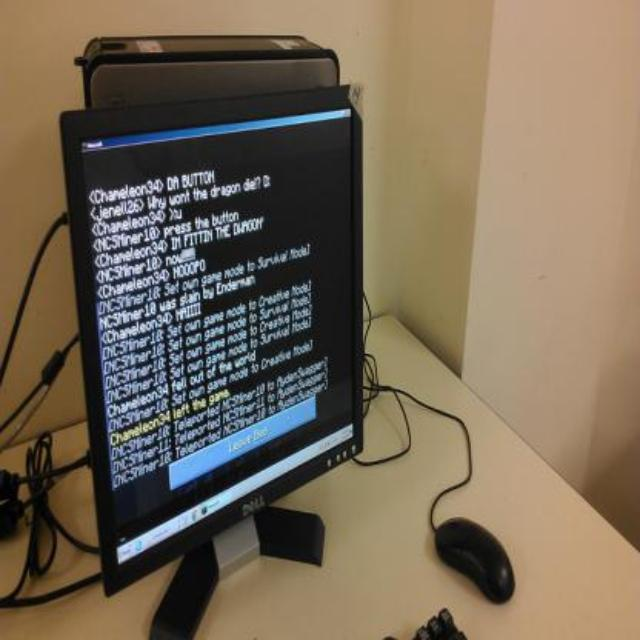Flat-Panel-Monitor: (48, 78, 410, 640)
